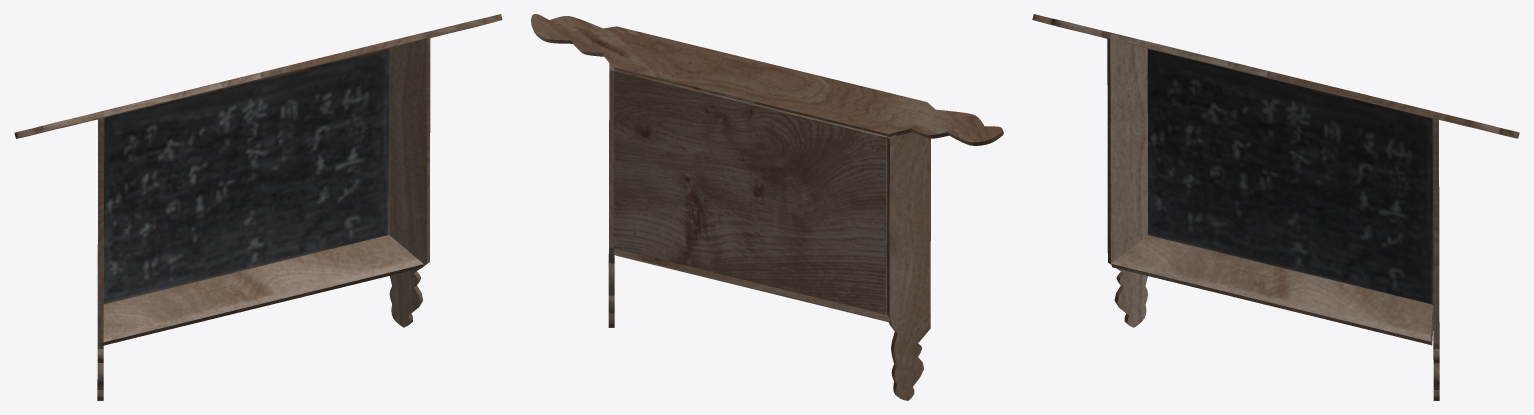
Rendered from SM_Sun_Kak_Sign_C.fbx.
3 renders of one model, left to right at view 1: azimuth 30°, elevation 25°; view 2: azimuth 150°, elevation 25°; view 3: azimuth 330°, elevation 25°, orthographic. The views are drawn at different scales.
Visible parts, largest first — view 1: SM_Sun_Kak_Sign_C; view 2: SM_Sun_Kak_Sign_C; view 3: SM_Sun_Kak_Sign_C.
Part boxes in pixels (x1=…): SM_Sun_Kak_Sign_C: x1=14, y1=14, x2=502, y2=400; SM_Sun_Kak_Sign_C: x1=531, y1=14, x2=1003, y2=400; SM_Sun_Kak_Sign_C: x1=1032, y1=14, x2=1519, y2=400.
Size of the model in its own units: 69.3 by 41.08 by 5.86.
